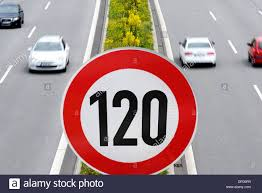Speed_limit_120km: (60, 47, 198, 176)
